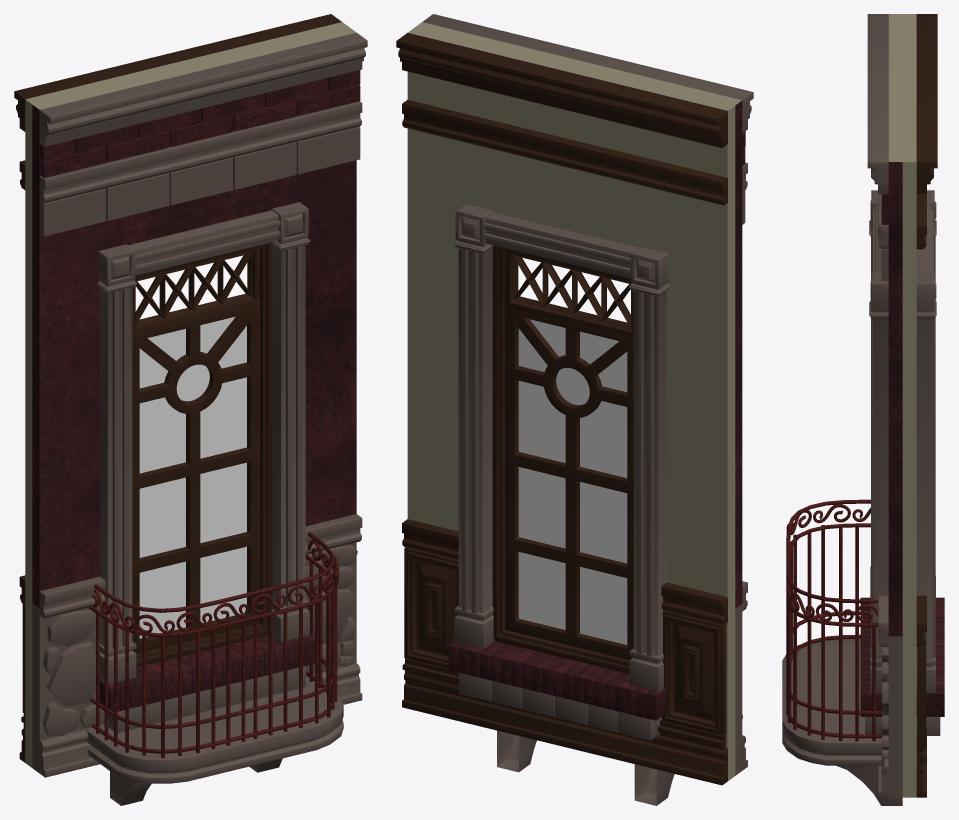
The model's file is SK5 WINDOW 1 BALCONY.fbx.
3 views of the same model, side by side, from view 1: azimuth 30°, elevation 25°; view 2: azimuth 150°, elevation 25°; view 3: azimuth 270°, elevation 25° (orthographic). The views are drawn at different scales.
Parts seen in each view (by area): view 1: SK5 WINDOW 1 BALCONY; view 2: SK5 WINDOW 1 BALCONY; view 3: SK5 WINDOW 1 BALCONY.
Part boxes in pixels (x1=…): SK5 WINDOW 1 BALCONY: x1=14, y1=14, x2=367, y2=805; SK5 WINDOW 1 BALCONY: x1=396, y1=14, x2=753, y2=805; SK5 WINDOW 1 BALCONY: x1=782, y1=14, x2=944, y2=805.
Size of the model in its own units: 200 by 429 by 92.56.
